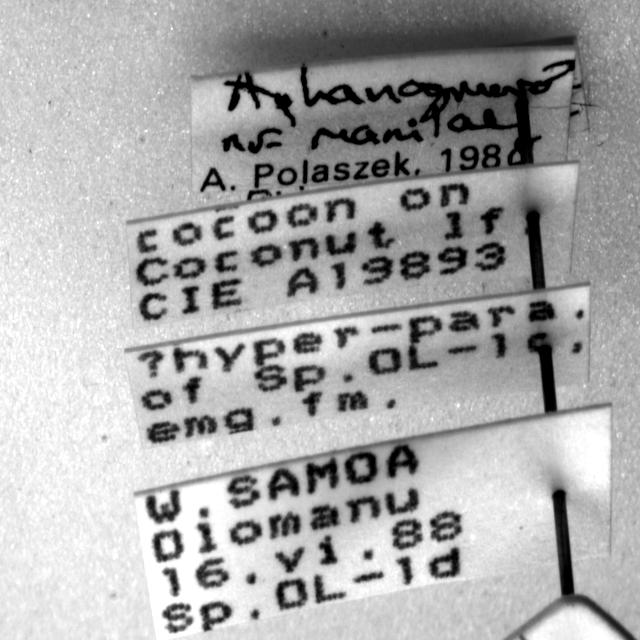mixed_label: (191, 39, 576, 199)
typed_label: (135, 405, 611, 639), (125, 285, 590, 446), (128, 163, 578, 326)
